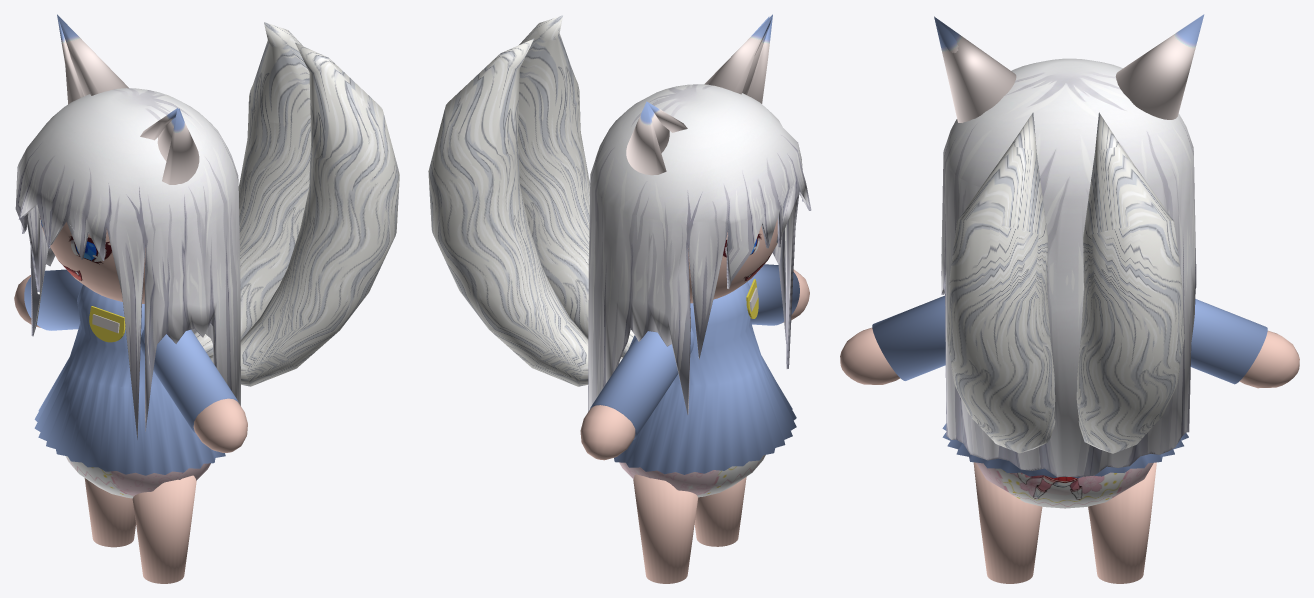
File: lilyfoxdiaperdoll.glb
The picture shows the model from 3 angles, left to right: view 1: azimuth 30°, elevation 25°; view 2: azimuth 150°, elevation 25°; view 3: azimuth 270°, elevation 25°; orthographic projection. The views are drawn at different scales.
Visible parts, largest first — view 1: head.001, Cylinder.002, head, dress, Cylinder.003, Cone, Cone.001, diaper, Cylinder; view 2: head.001, Cylinder.003, head, dress, Cylinder.002, Cone.001, Cone, diaper; view 3: head.001, Cylinder.002, Cylinder.003, head, Cone, Cone.001, diaper, dress.
Part boxes in pixels (<box>): head.001: <box>15,88,240,439</box>; Cylinder.002: <box>209,42,399,386</box>; head: <box>14,214,247,583</box>; dress: <box>34,284,225,475</box>; Cylinder.003: <box>194,22,310,356</box>; Cone: <box>57,14,128,104</box>; Cone.001: <box>140,108,199,184</box>; diaper: <box>65,456,210,498</box>; Cylinder: <box>89,306,125,342</box>; head.001: <box>588,84,811,414</box>; Cylinder.003: <box>428,38,622,386</box>; head: <box>580,219,809,583</box>; dress: <box>614,282,796,474</box>; Cylinder.002: <box>518,15,634,357</box>; Cone.001: <box>704,14,772,103</box>; Cone: <box>626,101,687,175</box>; diaper: <box>619,455,765,497</box>; head.001: <box>941,58,1196,477</box>; Cylinder.002: <box>946,112,1055,453</box>; Cylinder.003: <box>1076,112,1184,453</box>; head: <box>840,295,1299,583</box>; Cone: <box>1115,14,1204,119</box>; Cone.001: <box>934,16,1016,122</box>; diaper: <box>976,462,1153,508</box>; dress: <box>942,423,1188,478</box>.
Bounding box in the file's own units: 4.23 × 6.27 × 4.75.
9 materials, 5 textured.
